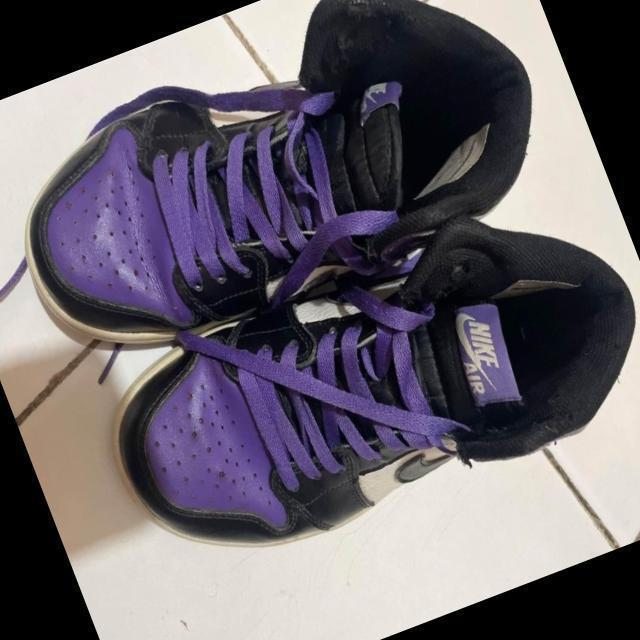nike fake jordan 1: (81, 177, 640, 591), (0, 0, 572, 388)
